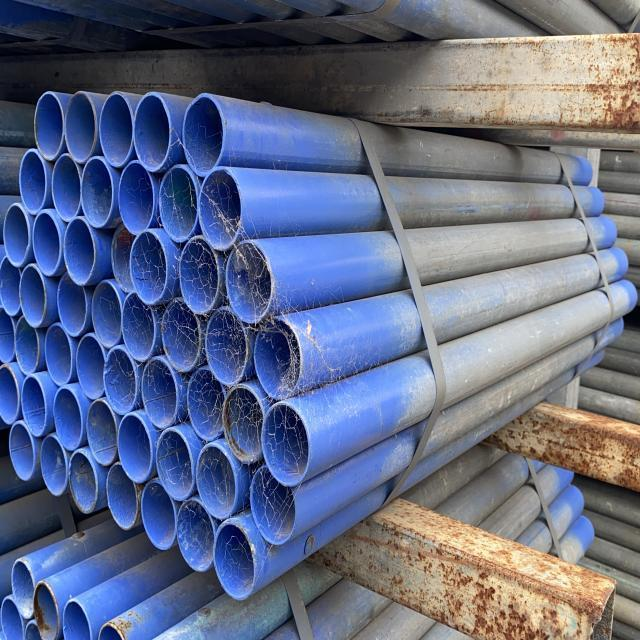pipe: (261, 400, 311, 484), (226, 240, 275, 322), (255, 317, 302, 401), (250, 464, 298, 544), (199, 166, 243, 252), (184, 96, 229, 179), (224, 386, 268, 465), (204, 306, 247, 386), (213, 519, 256, 599), (179, 233, 219, 313), (196, 444, 237, 522), (158, 165, 198, 242), (176, 498, 216, 574), (134, 92, 172, 171), (162, 300, 202, 374), (188, 368, 228, 442), (156, 426, 196, 499), (118, 158, 156, 234), (130, 228, 168, 303), (143, 359, 181, 432), (98, 94, 134, 170), (140, 478, 178, 550), (121, 294, 158, 366), (116, 414, 154, 484), (64, 92, 98, 166), (106, 348, 140, 420), (62, 220, 96, 290), (106, 463, 140, 532), (81, 156, 113, 228), (85, 398, 118, 466), (51, 152, 82, 222), (91, 280, 122, 349), (34, 212, 66, 278), (70, 450, 102, 516), (76, 333, 106, 402), (35, 92, 65, 160), (59, 272, 89, 338), (18, 261, 48, 326), (54, 384, 84, 448), (19, 148, 48, 214), (47, 324, 76, 389), (40, 432, 70, 494), (110, 224, 136, 294), (8, 420, 36, 483), (4, 202, 31, 267), (33, 579, 61, 640), (21, 375, 48, 438), (11, 556, 36, 620), (12, 316, 39, 375), (0, 362, 24, 423), (1, 260, 24, 320), (63, 597, 91, 640), (0, 594, 23, 640), (0, 306, 16, 363), (99, 622, 128, 640), (26, 619, 48, 640)
